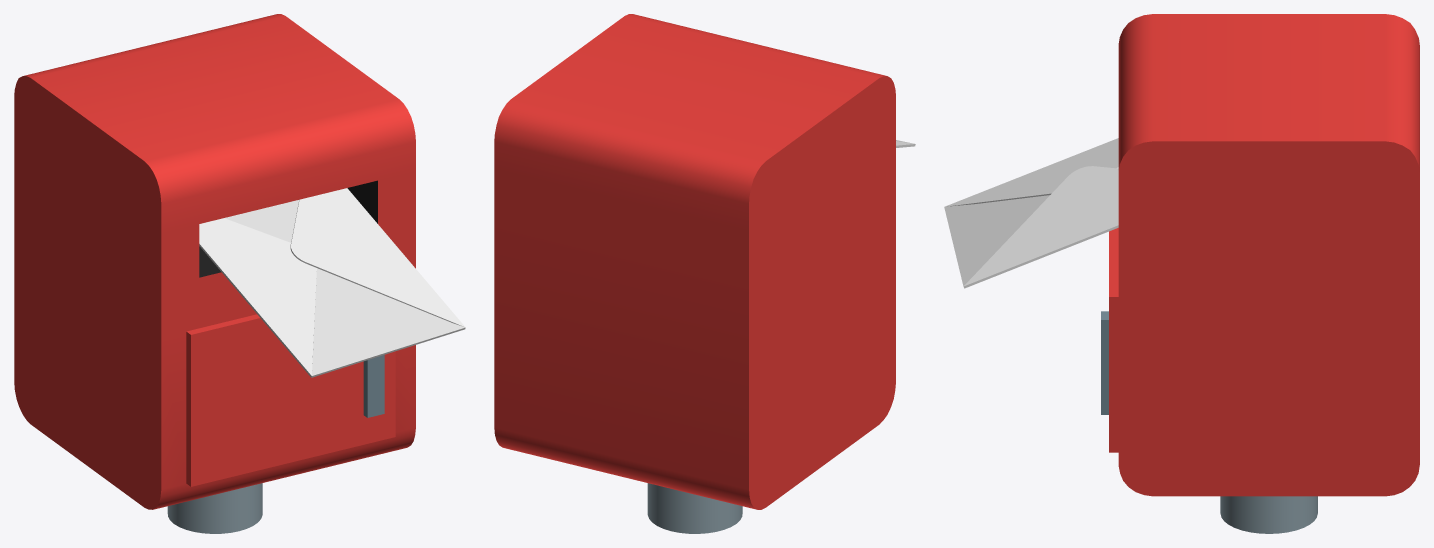
File: postbox.glb
3 views of the same model, side by side, from view 1: azimuth 30°, elevation 25°; view 2: azimuth 150°, elevation 25°; view 3: azimuth 270°, elevation 25° (orthographic). The views are drawn at different scales.
Visible parts, largest first — view 1: Cube.974; view 2: Cube.974; view 3: Cube.974.
Boxes of the visible parts, x1=… form: Cube.974: x1=14, y1=14, x2=465, y2=533; Cube.974: x1=494, y1=14, x2=915, y2=533; Cube.974: x1=944, y1=14, x2=1419, y2=533.
Size of the model in its own units: 1.31 by 2.09 by 2.07.
Materials: 1 (1 with a texture image).
